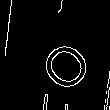O_SE: (32, 32, 98, 98)
